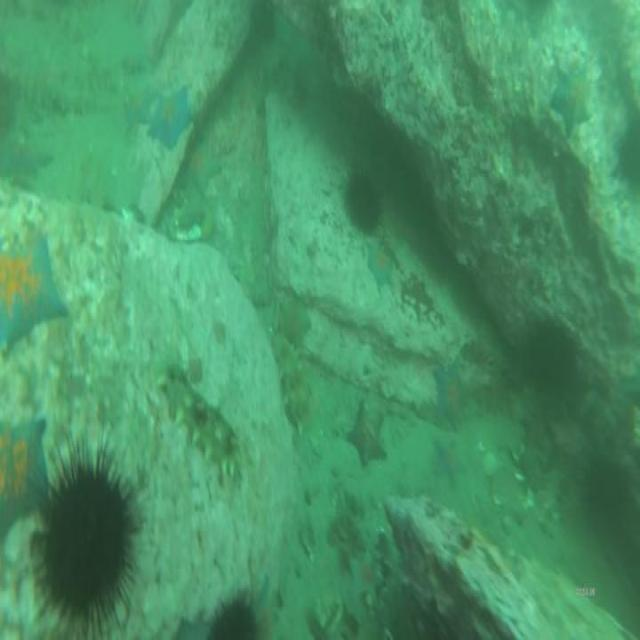echinus: (24, 433, 145, 640), (522, 314, 580, 412), (582, 456, 634, 540), (339, 164, 385, 242), (208, 591, 266, 640), (615, 114, 640, 194), (245, 0, 279, 44)
holothurian: (158, 367, 242, 485), (272, 335, 312, 433)
starfish: (0, 228, 72, 358), (0, 409, 50, 552), (548, 57, 594, 141), (343, 393, 390, 472), (144, 84, 198, 147), (431, 352, 472, 425), (177, 133, 224, 196), (275, 288, 313, 349), (428, 433, 466, 493), (120, 81, 161, 134), (364, 238, 398, 290)
